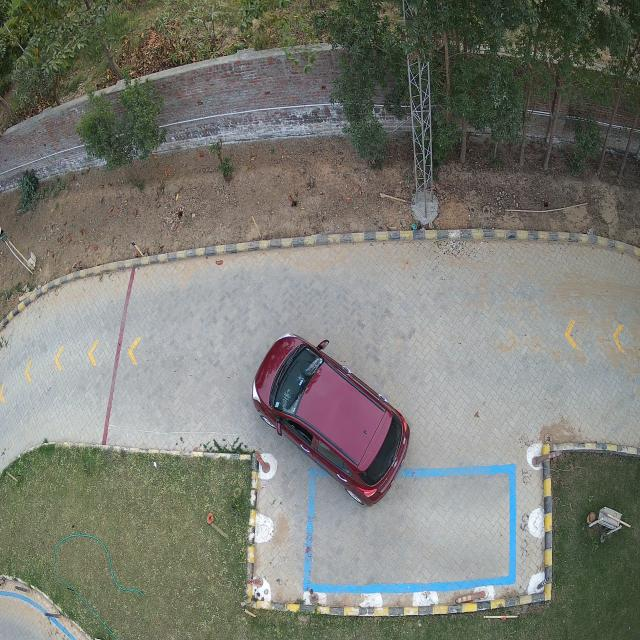car: (252, 332, 411, 506)
